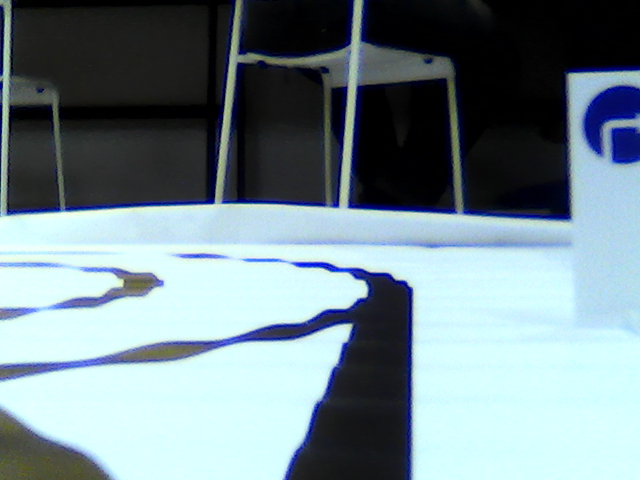Right: (585, 84, 640, 165)
